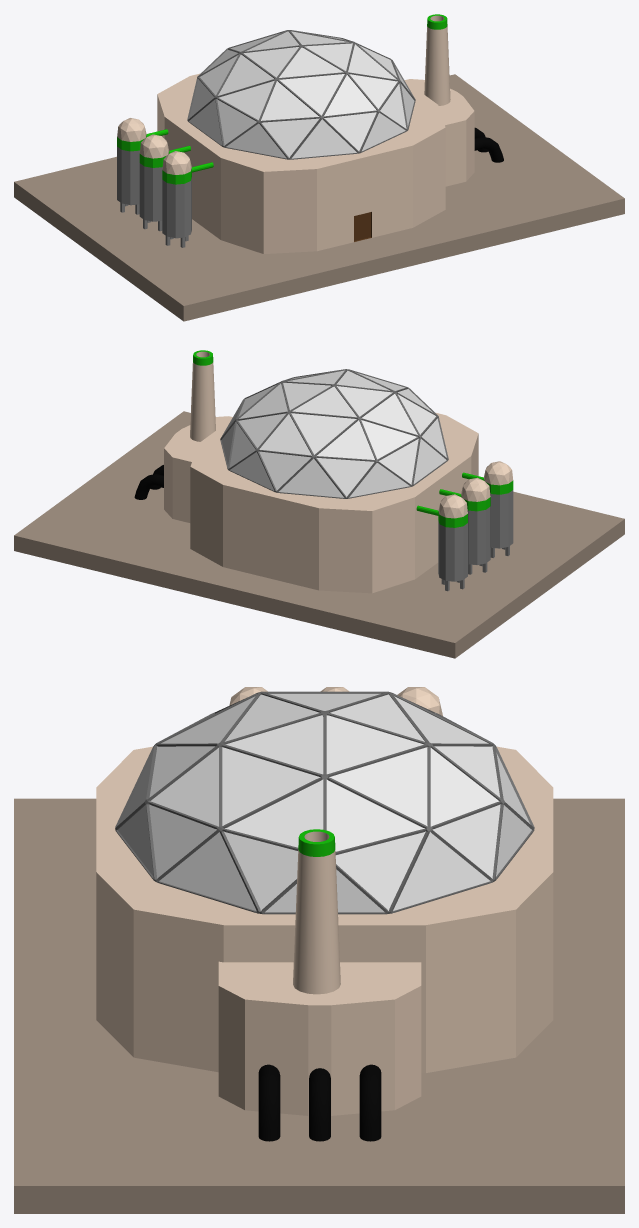
The model's file is Oxygen Distillery.fbx.
The picture shows the model from 3 angles, top to bottom: view 1: azimuth 30°, elevation 25°; view 2: azimuth 150°, elevation 25°; view 3: azimuth 270°, elevation 25°; orthographic projection. The views are drawn at different scales.
Parts seen in each view (by area): view 1: base.010, main building.008, top glass, storage, glass frame, side building, chimney.003, pipes; view 2: base.010, main building.008, top glass, storage, glass frame, side building, chimney.003, pipes; view 3: base.010, top glass, main building.008, side building, glass frame, chimney.003, pipes, storage.
Boxes of the visible parts, bbox=[...] form: base.010: bbox=[14, 74, 624, 321]; main building.008: bbox=[157, 73, 445, 253]; top glass: bbox=[189, 31, 414, 158]; storage: bbox=[117, 118, 213, 247]; glass frame: bbox=[187, 30, 415, 159]; side building: bbox=[405, 79, 474, 186]; chimney.003: bbox=[424, 14, 450, 105]; pipes: bbox=[474, 127, 503, 162]; base.010: bbox=[14, 411, 624, 658]; main building.008: bbox=[190, 412, 478, 593]; top glass: bbox=[221, 370, 446, 497]; storage: bbox=[416, 461, 513, 591]; glass frame: bbox=[220, 369, 448, 498]; side building: bbox=[164, 416, 232, 522]; chimney.003: bbox=[190, 350, 215, 441]; pipes: bbox=[134, 465, 163, 499]; base.010: bbox=[14, 798, 624, 1213]; top glass: bbox=[118, 693, 531, 912]; main building.008: bbox=[96, 746, 553, 1073]; side building: bbox=[218, 961, 421, 1115]; glass frame: bbox=[115, 691, 534, 914]; chimney.003: bbox=[293, 829, 340, 994]; pipes: bbox=[258, 1064, 381, 1141]; storage: bbox=[229, 687, 442, 715].
Bounding box in the file's own units: 836 × 295 × 558.
